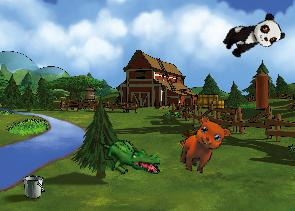bear: (176, 112, 233, 180)
crocodile: (100, 138, 161, 176)
panda: (219, 10, 286, 63)
